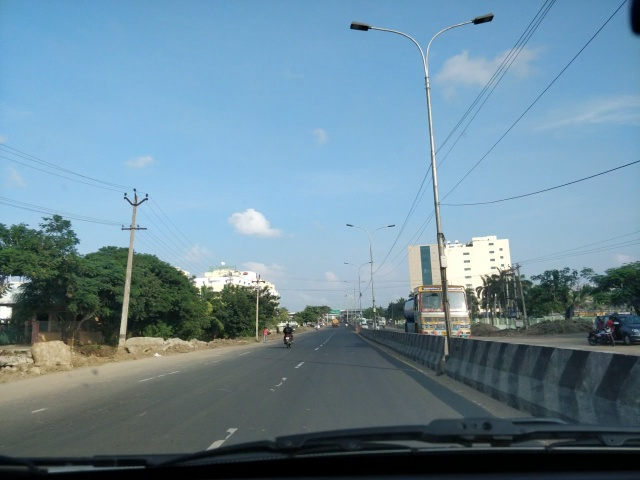car: (600, 311, 639, 345), (376, 315, 387, 328)
motorbike: (586, 318, 615, 345), (280, 320, 296, 348)
person: (261, 325, 270, 345)
truck: (401, 280, 471, 349), (329, 316, 341, 328)
